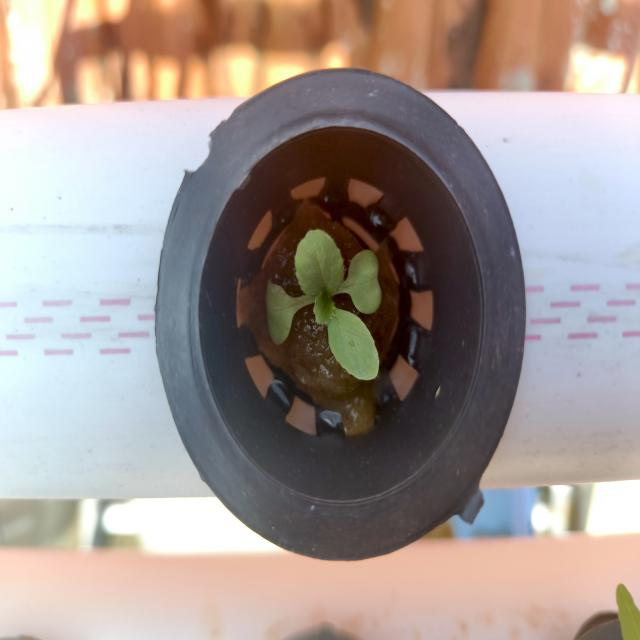daun-pakcoy: (314, 290, 379, 380), (295, 230, 344, 298), (335, 250, 382, 314), (265, 281, 298, 345), (363, 282, 367, 286)
